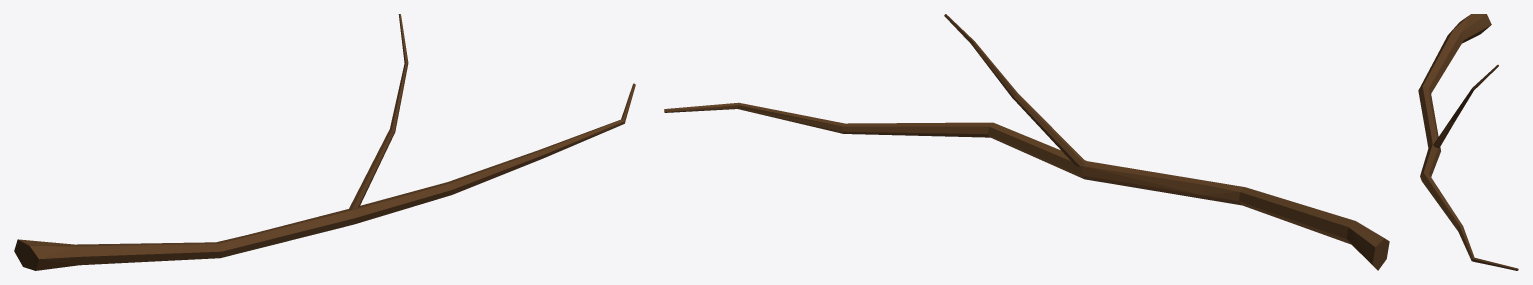
The model's file is tree-birch-branch-a.gltf.
3 views of the same model, side by side, from view 1: azimuth 30°, elevation 25°; view 2: azimuth 150°, elevation 25°; view 3: azimuth 270°, elevation 25° (orthographic). The views are drawn at different scales.
Parts seen in each view (by area): view 1: tree-birch-branch-a; view 2: tree-birch-branch-a; view 3: tree-birch-branch-a.
Part boxes in pixels (left/top/right/bottom): tree-birch-branch-a: left=14, top=14, right=635, bottom=270; tree-birch-branch-a: left=664, top=14, right=1389, bottom=270; tree-birch-branch-a: left=1418, top=14, right=1518, bottom=270.
Bounding box in the file's own units: 0.0218 × 0.0052 × 0.00378.
